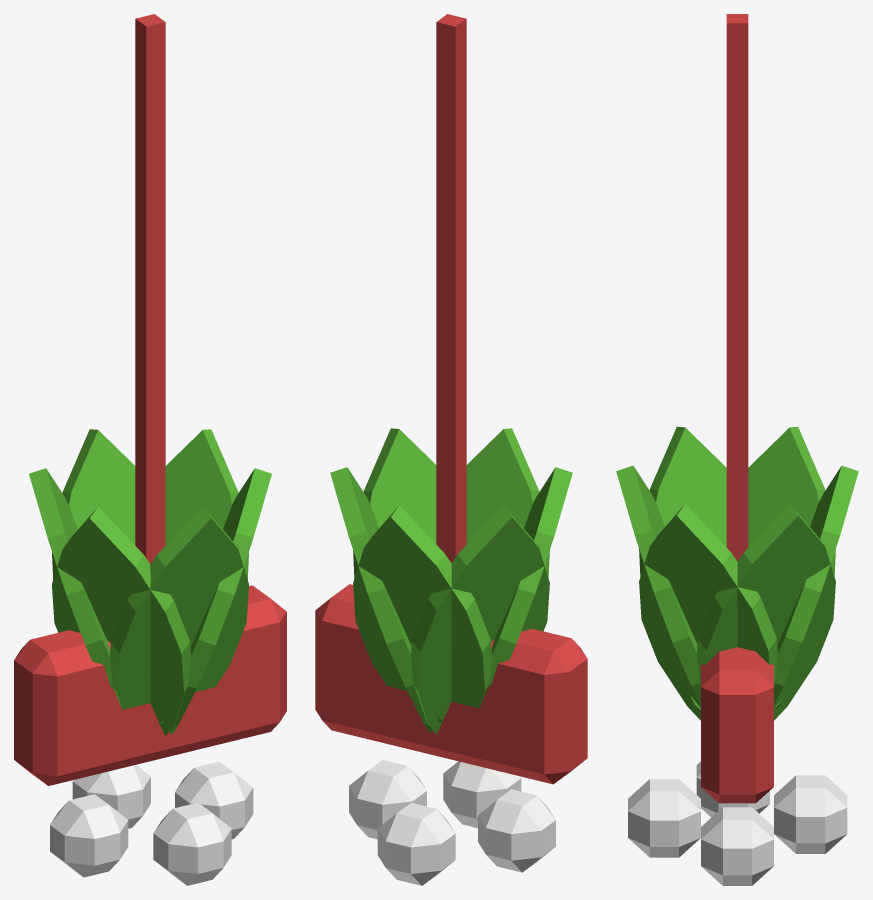
The model's file is Mistletoe.fbx.
3 renders of one model, left to right at view 1: azimuth 30°, elevation 25°; view 2: azimuth 150°, elevation 25°; view 3: azimuth 270°, elevation 25°, orthographic.
Parts seen in each view (by area): view 1: Mistletoe; view 2: Mistletoe; view 3: Mistletoe.
Part boxes in pixels (<box>): Mistletoe: <box>14,14,286,885</box>; Mistletoe: <box>315,14,587,885</box>; Mistletoe: <box>616,14,858,885</box>.
Size of the model in its own units: 0.8 by 2.5 by 0.6626.
1 material, 1 textured.
